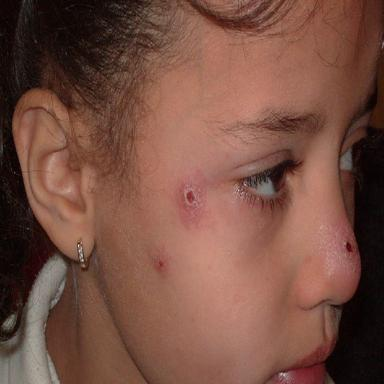Leishmanios: (313, 222, 359, 277), (176, 175, 205, 224)
